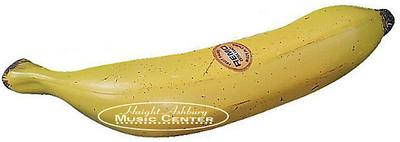banana: (0, 0, 400, 142)
